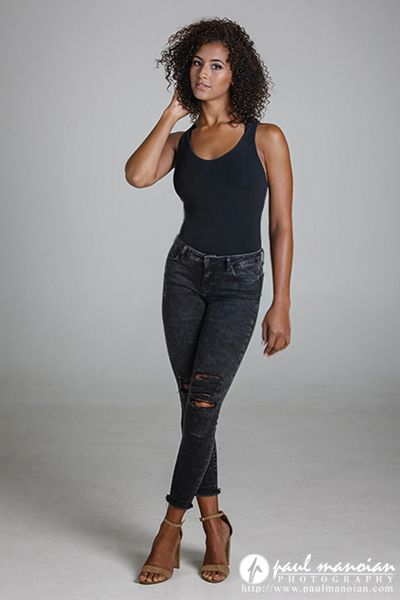person: (107, 15, 303, 596)
